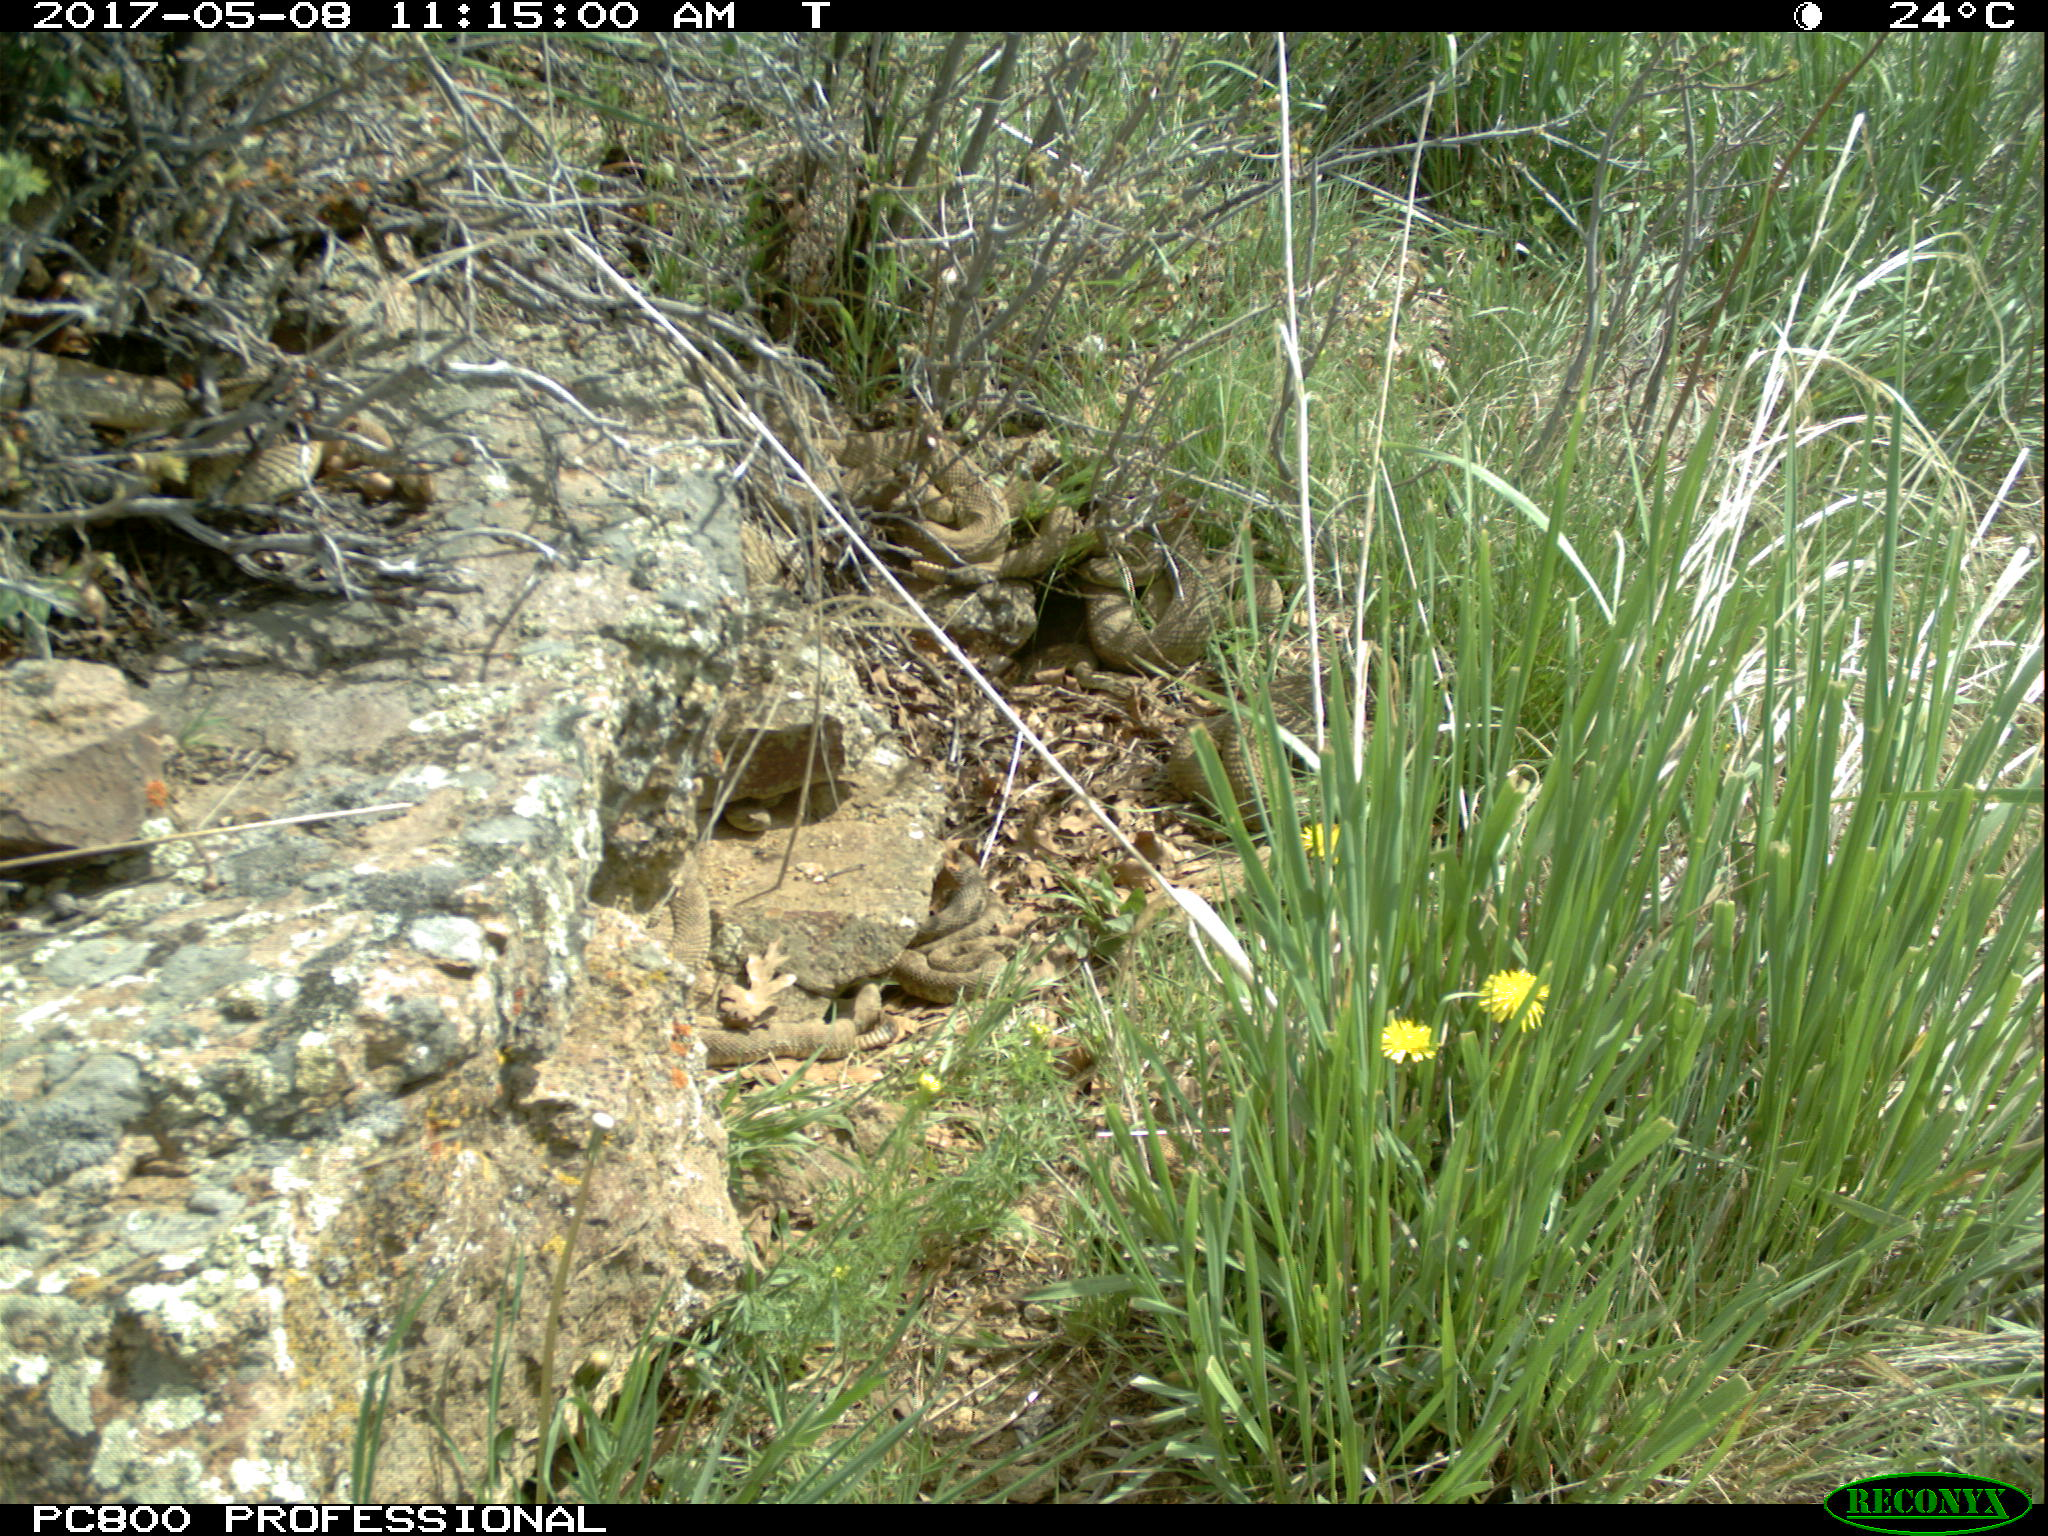snake: (989, 534, 1297, 670), (808, 429, 1018, 565), (1163, 699, 1326, 829), (164, 411, 390, 495), (897, 850, 1009, 1005), (697, 1010, 901, 1062), (663, 874, 718, 976), (721, 799, 779, 834)
